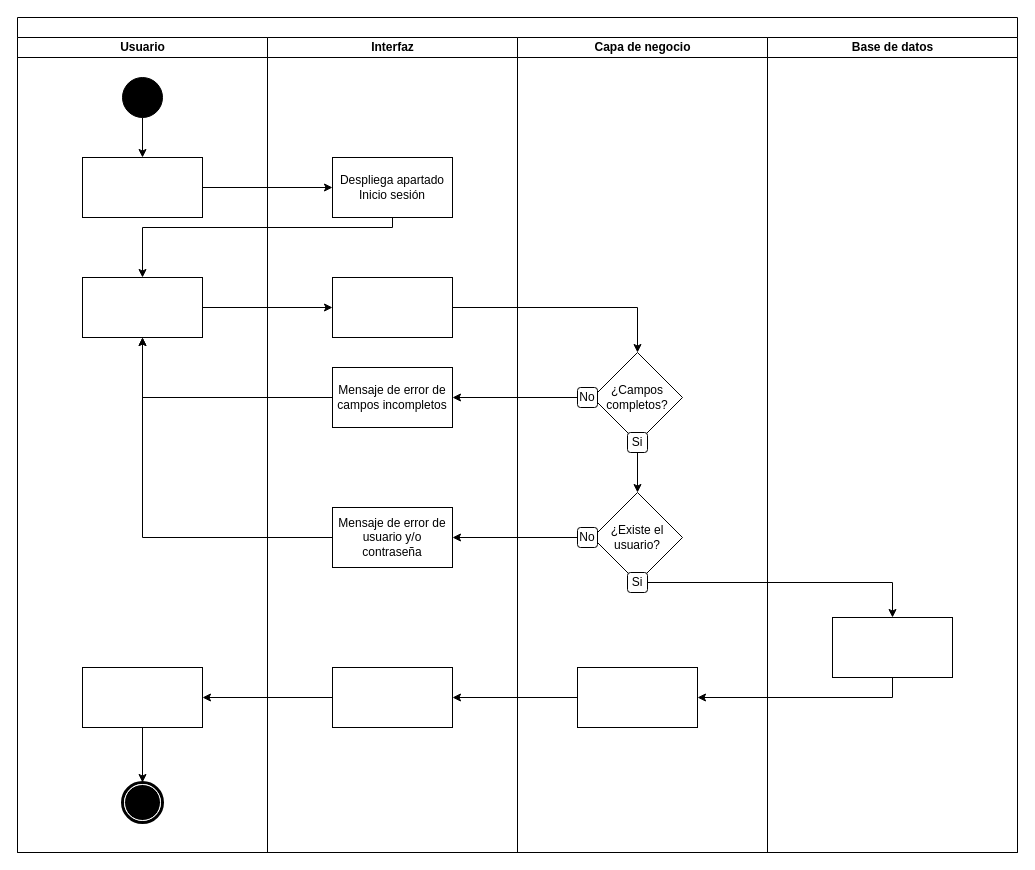
The diagram is 1035 pixels wide and 870 high, and some of its shapes have lost their labels. The shapes that lost their labels are listed below. From the top down, each one's centre as x and y in pixels, then its label:
At point (142, 187): "Iniciar aplicación".
At point (142, 307): "Ingresa usuario y contraseña".
At point (392, 307): "Botón iniciar sesión".
At point (892, 647): "Verifica los datos del usuario".
At point (142, 697): "Visualiza los datos del menú principal".
At point (392, 697): "Muestra la pantalla principal".
At point (637, 697): "Recopila los datos".
